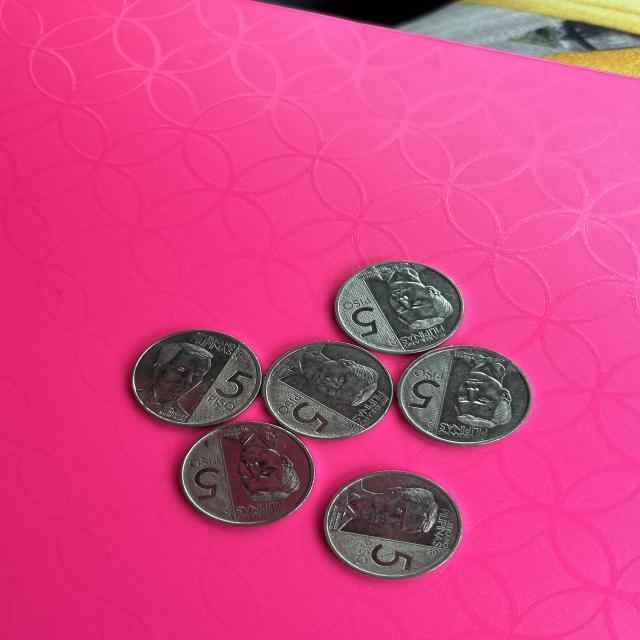5_New_Front: (268, 382, 340, 440), (342, 532, 416, 582), (344, 294, 397, 342), (205, 360, 252, 412), (186, 450, 222, 506), (401, 364, 437, 417)
